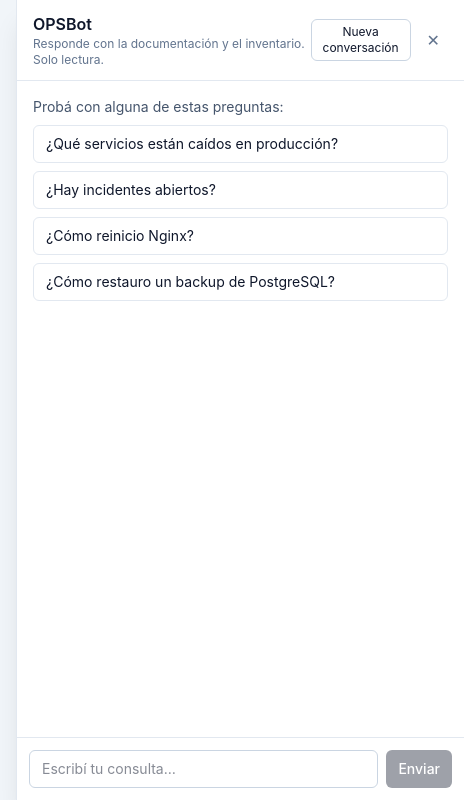
it: ChatPanel › muestra un error claro si OPSBot no está disponible (503)
The image size is (464, 800).
What coordinates should you click on to do the following:
click the button "¿Qué servicios están caídos en producción?"
I would click on:
 (240, 144)
Its box is [33,125,448,163].
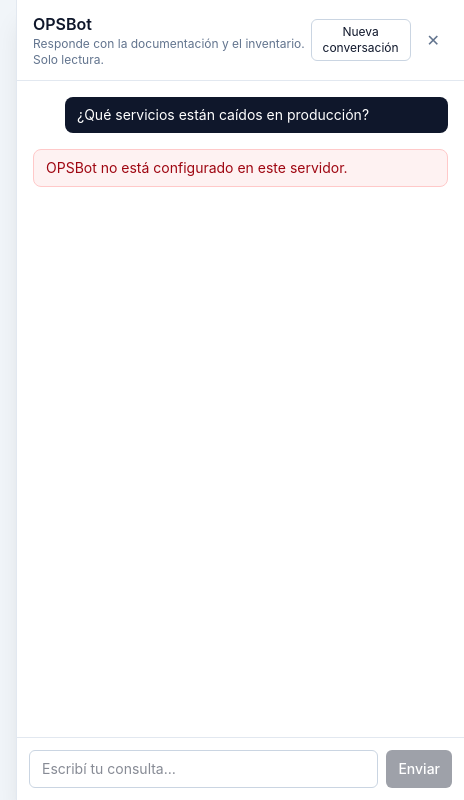
Result: the message reads "OPSBot no está configurado en este servidor." at [46,159,348,176]
